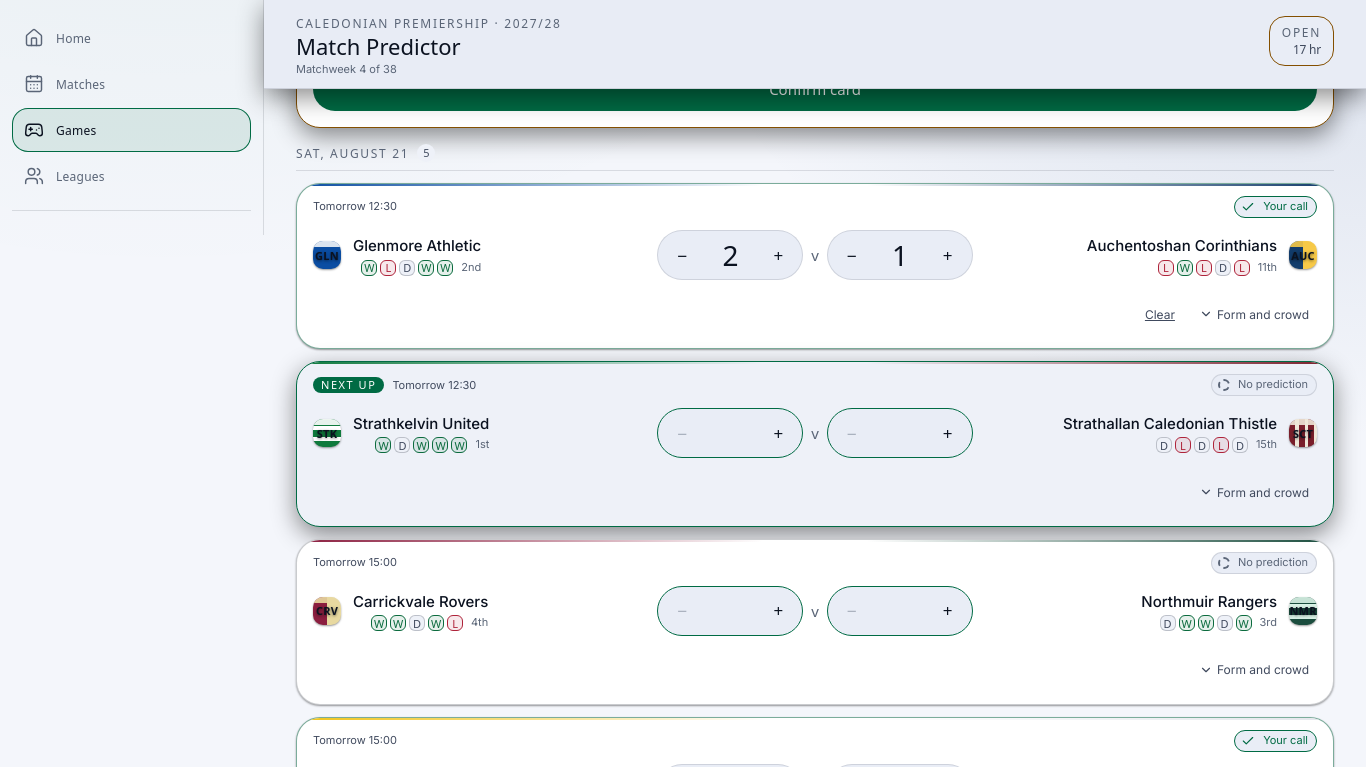
score entry › says the fixture needs both scores while only one is entered
(page scrolled)
Click the 3rd button "+" at [778, 433], box [756, 411, 800, 455]
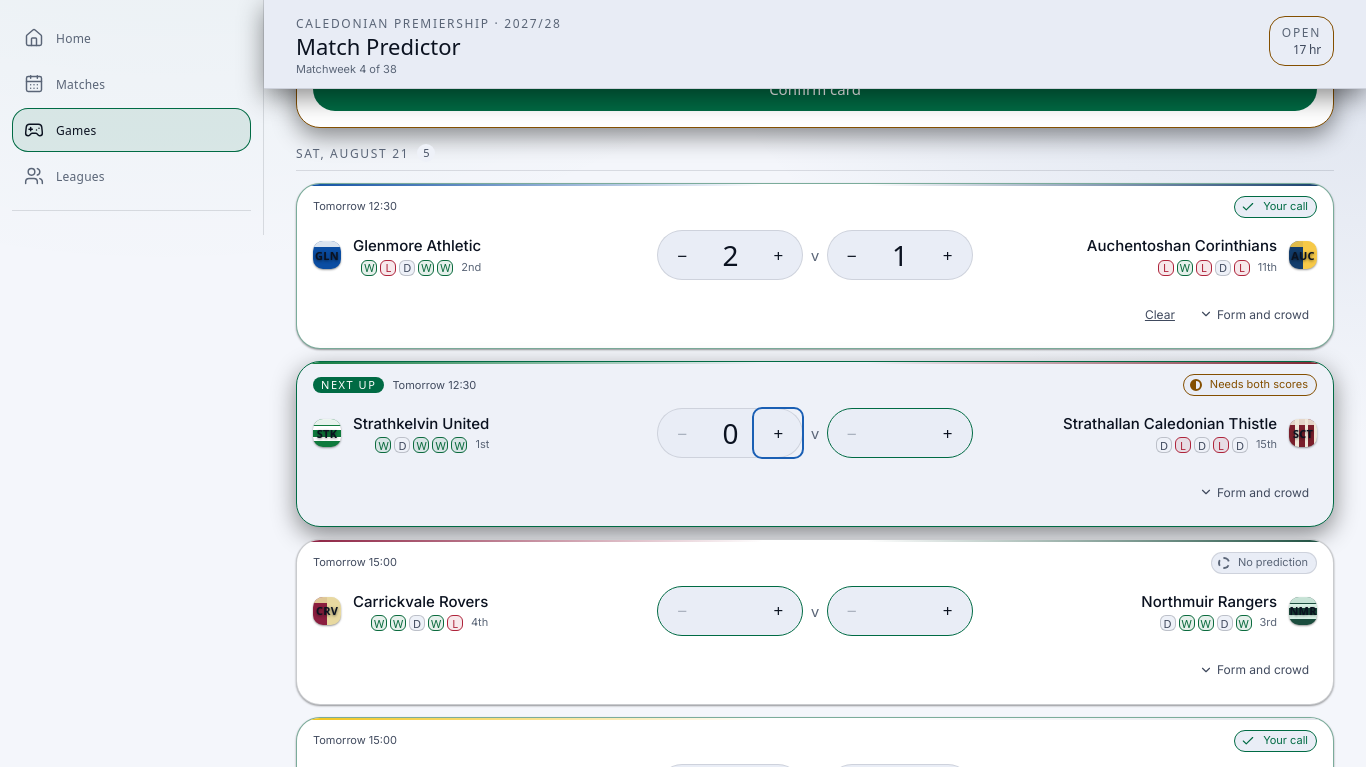
Result: the text "Needs both scores" is shown at [1210, 378, 1308, 392]
